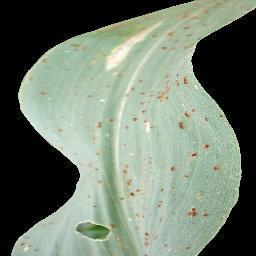Corn_Common_Rust: (154, 0, 252, 53), (69, 73, 188, 103), (100, 13, 151, 71), (117, 155, 149, 218), (90, 109, 153, 140), (17, 57, 69, 82), (0, 231, 48, 254), (131, 227, 168, 256), (99, 221, 128, 250), (174, 108, 207, 132), (183, 141, 218, 163), (85, 155, 107, 188), (187, 205, 220, 225), (68, 33, 92, 54), (157, 181, 187, 196), (154, 198, 172, 215), (39, 85, 55, 101), (163, 163, 184, 174), (209, 165, 230, 175), (182, 243, 198, 254), (215, 113, 232, 123), (53, 124, 65, 135)
